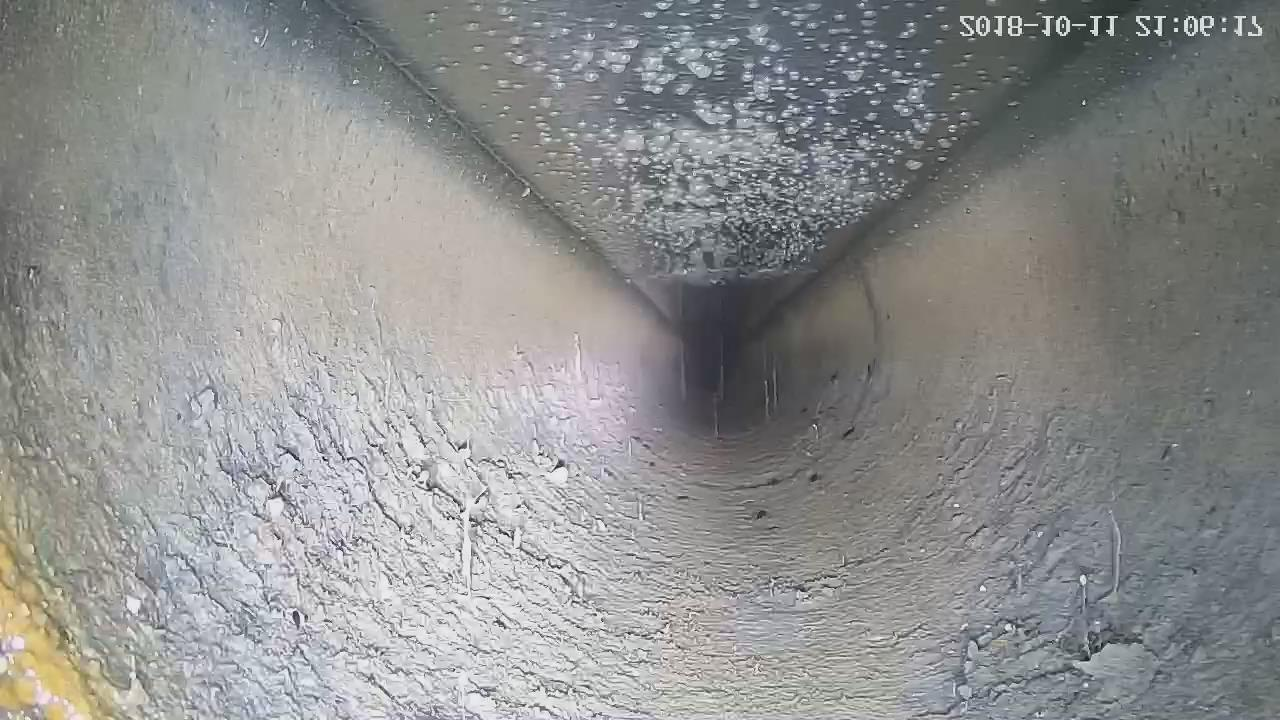FZ: (352, 1, 1118, 286)
JG: (0, 1, 1279, 720)
